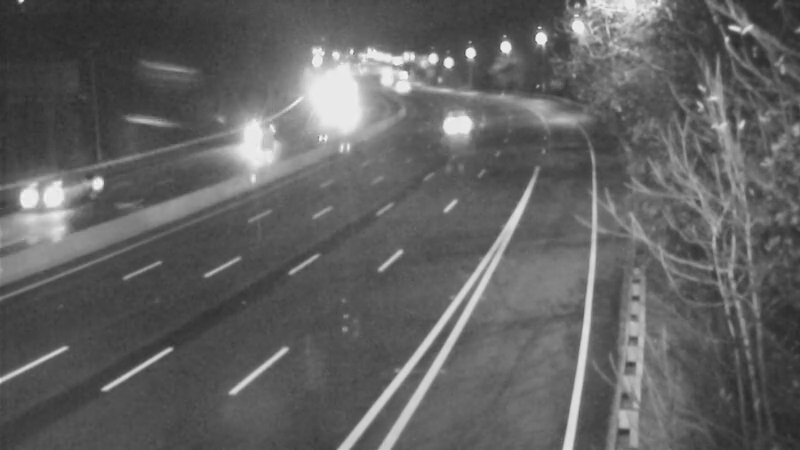vehicle: (3, 153, 83, 233), (371, 59, 421, 109), (431, 98, 481, 148), (225, 121, 275, 171)
